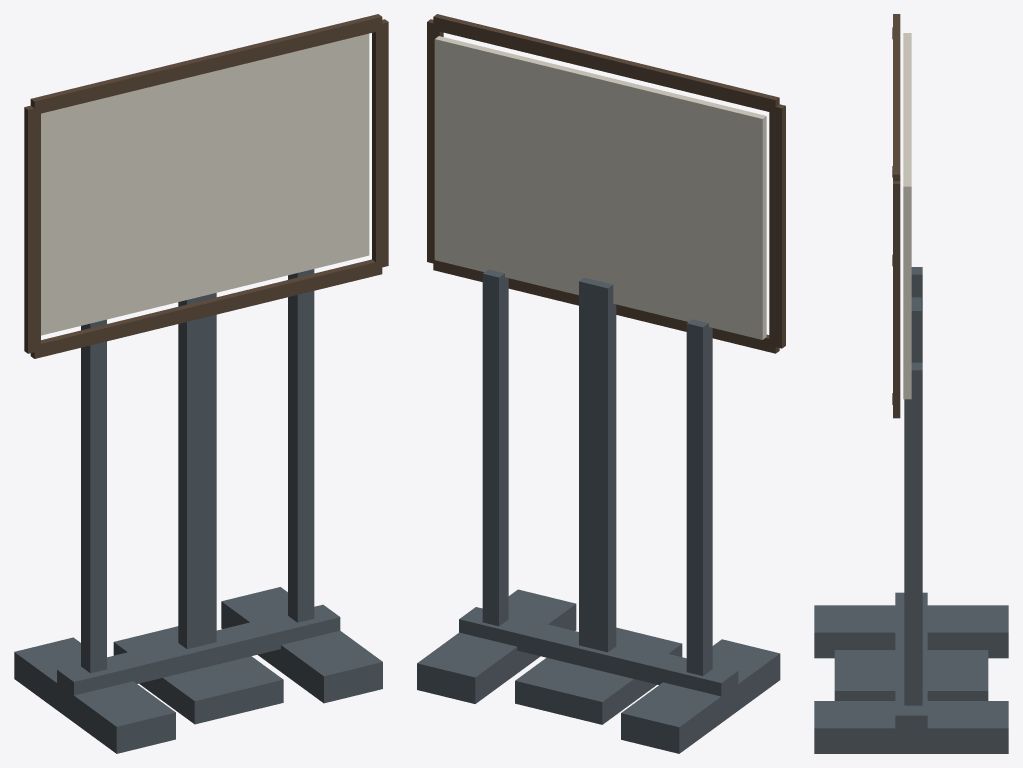
3 views of the same model, side by side, from view 1: azimuth 30°, elevation 25°; view 2: azimuth 150°, elevation 25°; view 3: azimuth 270°, elevation 25° (orthographic). The views are drawn at different scales.
Visible parts, largest first — view 1: information-back, information-post, doorplate-right-upright, doorplate-left-upright, doorplate-left-shoe, doorplate-shoe-crossbar, doorplate-right-shoe, information-base, doorplate-outer-bottom, doorplate-outer-top, doorplate-outer-left, doorplate-outer-right (+1 smaller); view 2: information-back, information-post, doorplate-left-upright, doorplate-right-upright, doorplate-left-shoe, doorplate-shoe-crossbar, doorplate-right-shoe, information-base, doorplate-outer-top, doorplate-outer-left, doorplate-outer-bottom, doorplate-step-top (+1 smaller); view 3: doorplate-right-shoe, doorplate-left-shoe, information-base, doorplate-right-upright, information-back, doorplate-shoe-crossbar, doorplate-outer-right, doorplate-outer-top, information-post, doorplate-left-upright.
Part boxes in pixels (left/top/right/bottom): information-back: left=41, top=33, right=369, bottom=335; information-post: left=178, top=293, right=216, bottom=649; doorplate-right-upright: left=288, top=269, right=314, bottom=622; doorplate-left-upright: left=81, top=319, right=106, bottom=673; doorplate-left-shoe: left=14, top=637, right=175, bottom=753; doorplate-shoe-crossbar: left=57, top=604, right=340, bottom=698; doorplate-right-shoe: left=221, top=587, right=382, bottom=703; information-base: left=113, top=626, right=283, bottom=724; doorplate-outer-bottom: left=30, top=259, right=382, bottom=358; doorplate-outer-top: left=30, top=14, right=382, bottom=114; doorplate-outer-left: left=24, top=105, right=40, bottom=353; doorplate-outer-right: left=372, top=19, right=388, bottom=267; information-back: left=434, top=36, right=766, bottom=339; information-post: left=579, top=277, right=616, bottom=652; doorplate-left-upright: left=686, top=319, right=712, bottom=675; doorplate-right-upright: left=482, top=269, right=508, bottom=626; doorplate-left-shoe: left=621, top=639, right=780, bottom=753; doorplate-shoe-crossbar: left=459, top=607, right=738, bottom=696; doorplate-right-shoe: left=417, top=589, right=576, bottom=703; information-base: left=515, top=627, right=682, bottom=724; doorplate-outer-top: left=433, top=14, right=779, bottom=113; doorplate-outer-left: left=769, top=104, right=785, bottom=348; doorplate-outer-bottom: left=433, top=257, right=779, bottom=353; doorplate-step-top: left=445, top=24, right=764, bottom=110; doorplate-right-shoe: left=814, top=701, right=1008, bottom=753; doorplate-left-shoe: left=814, top=605, right=1008, bottom=658; information-base: left=834, top=650, right=988, bottom=700; doorplate-right-upright: left=904, top=362, right=922, bottom=705; information-back: left=903, top=33, right=911, bottom=399; doorplate-shoe-crossbar: left=895, top=592, right=927, bottom=731; doorplate-outer-right: left=893, top=181, right=900, bottom=414; doorplate-outer-top: left=893, top=14, right=900, bottom=180; information-post: left=911, top=297, right=921, bottom=362; doorplate-left-upright: left=911, top=267, right=922, bottom=362.
Bounding box in the file's own units: 0.975 × 1.63 × 0.48.
